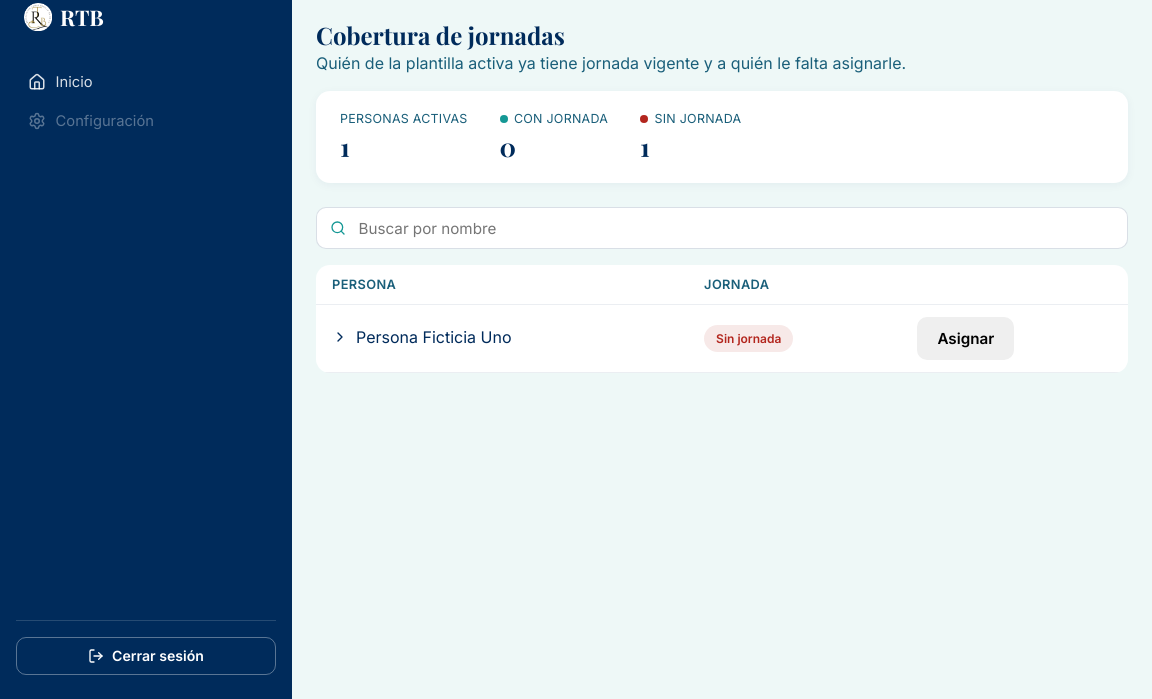
AsignarJornadaPage › se queda en la pestaña tras guardar pero cierra el formulario
Click the button "Asignar": click(966, 338) x1=917 y1=317 x2=1014 y2=360
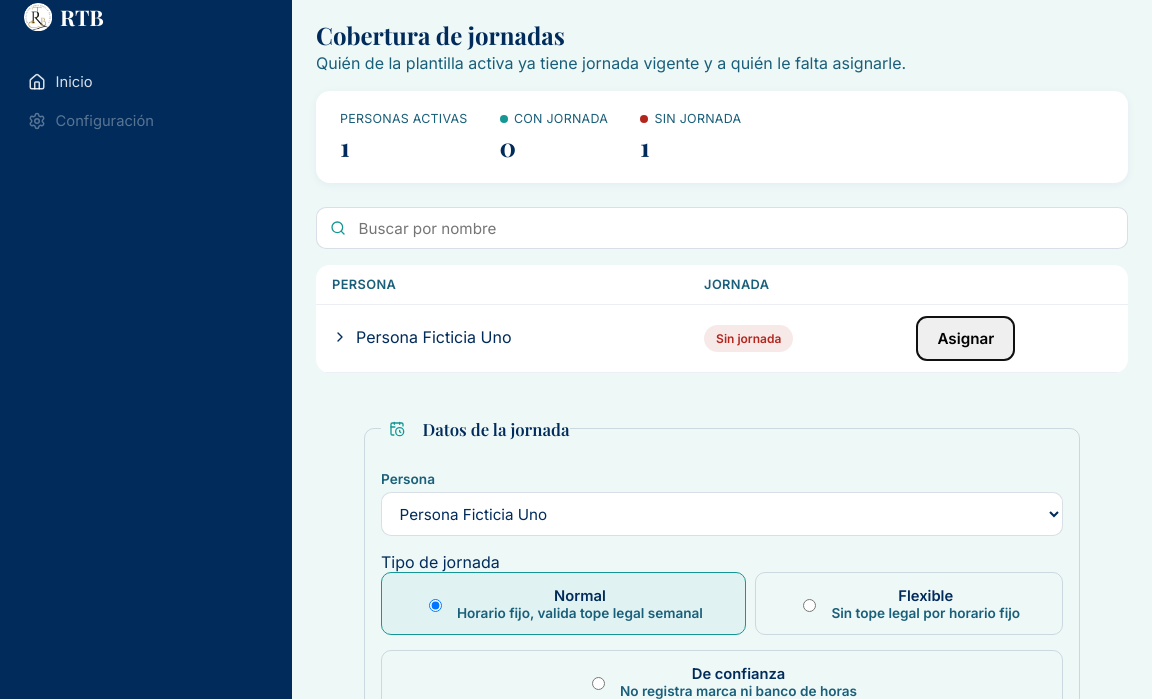
Select "Persona Ficticia Uno" in the dropdown labelled "Persona": (722, 514) x1=381 y1=492 x2=1063 y2=536
(page scrolled)
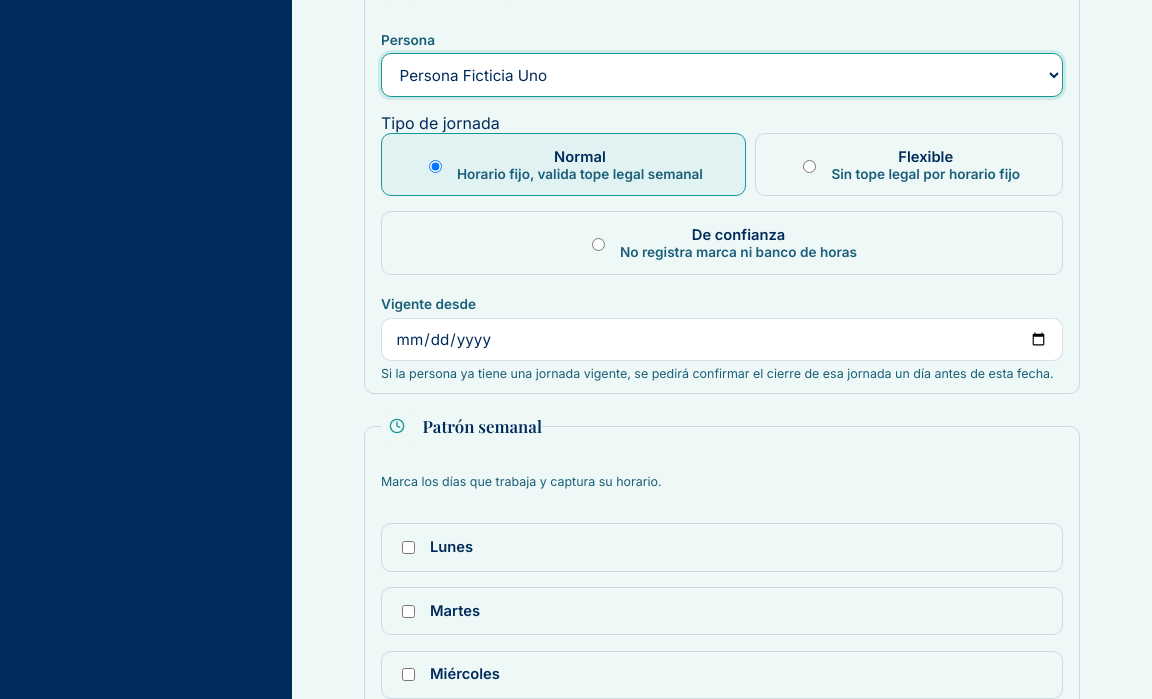
In the date field labelled "Vigente desde": (722, 340) x1=381 y1=318 x2=1063 y2=362, type "2026-01-01"
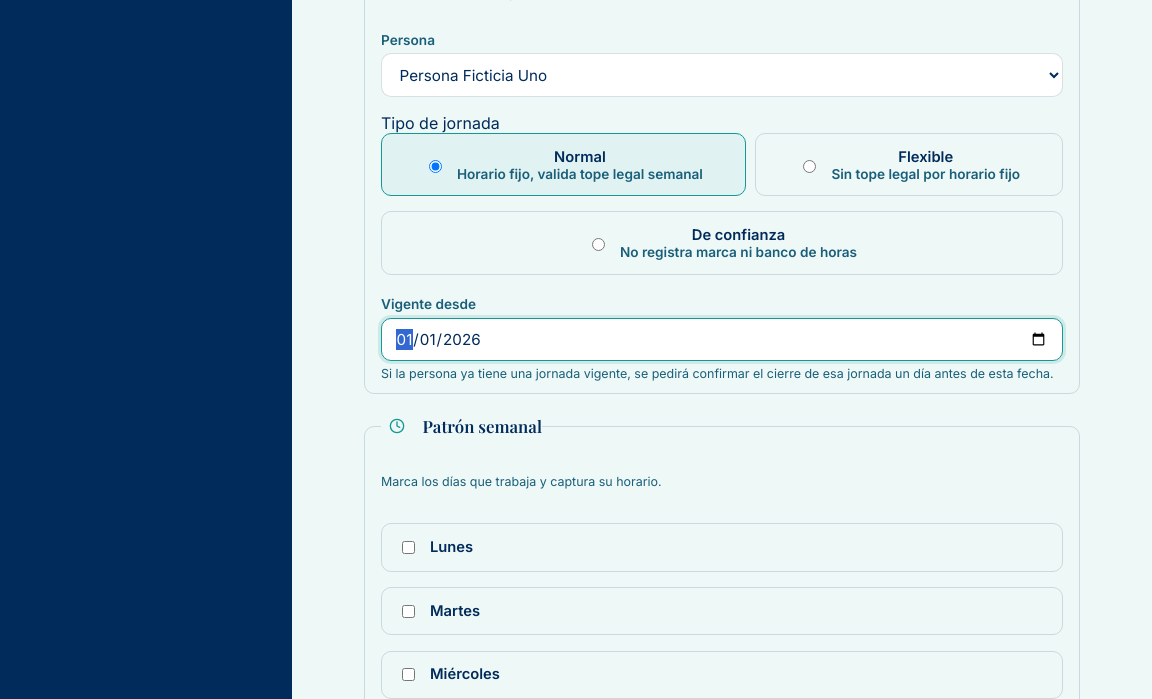
Click the checkbox labelled "Lunes": click(408, 548) x1=402 y1=541 x2=415 y2=554
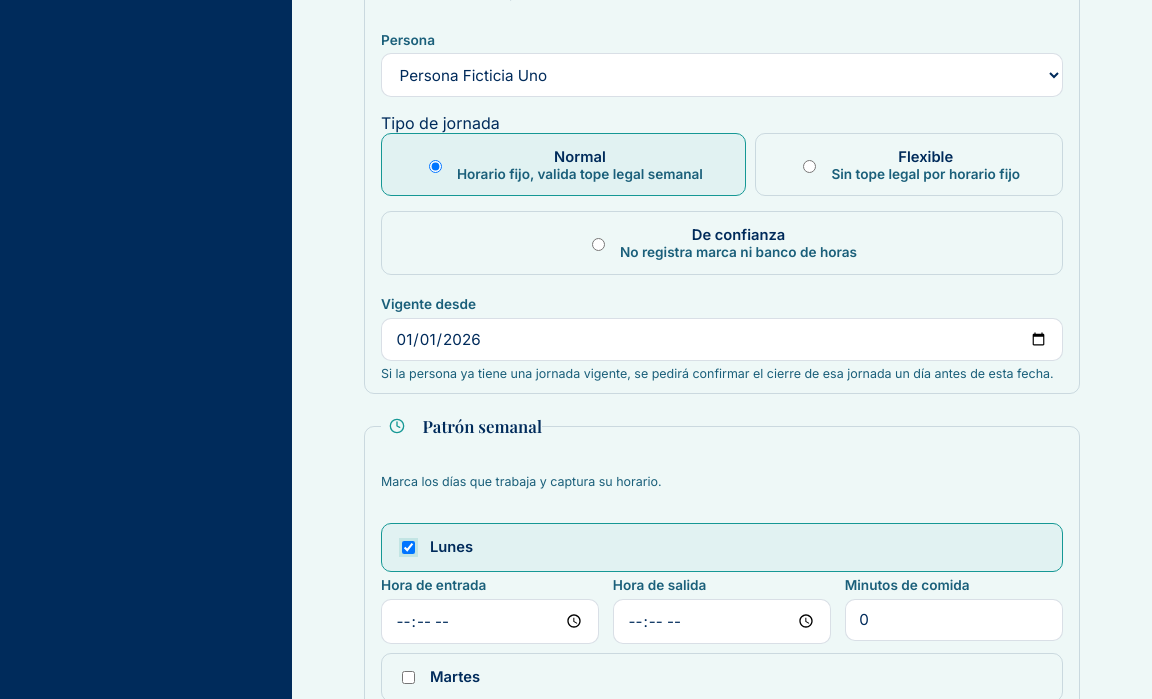
In the time field labelled "Hora de entrada": (490, 621) x1=381 y1=599 x2=599 y2=644, type "09:00"
In the time field labelled "Hora de salida": (722, 621) x1=613 y1=599 x2=831 y2=644, type "18:00"
(page scrolled)
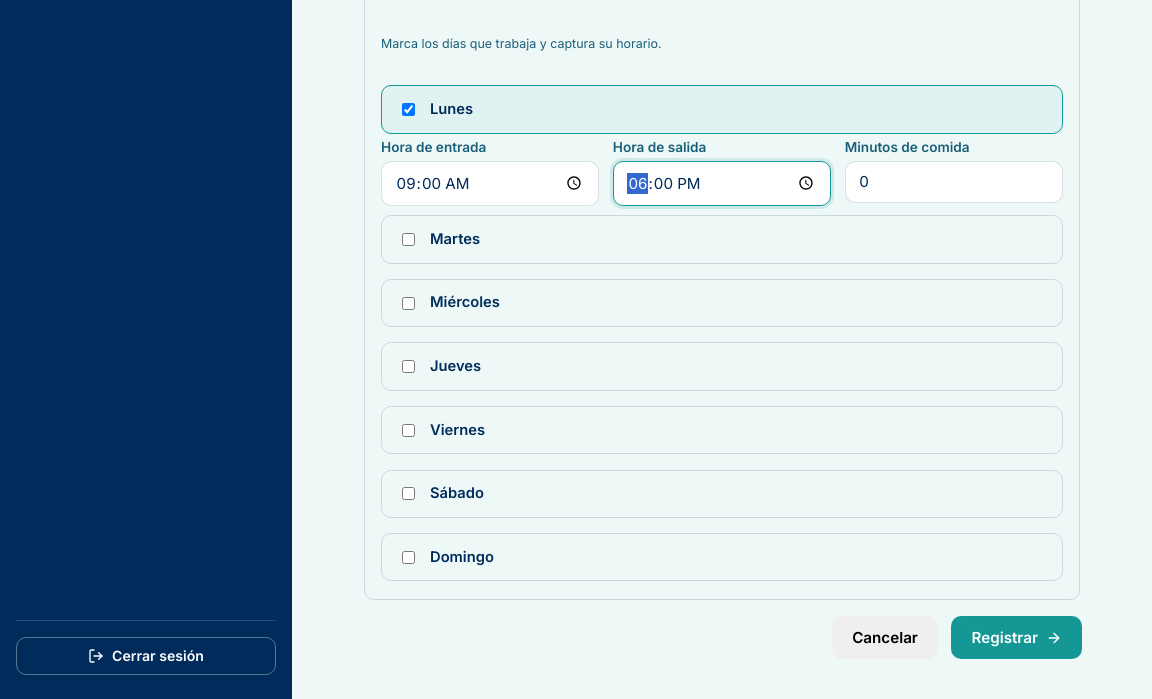
Click the button "Registrar": click(1017, 638) x1=952 y1=616 x2=1082 y2=659
(page scrolled)
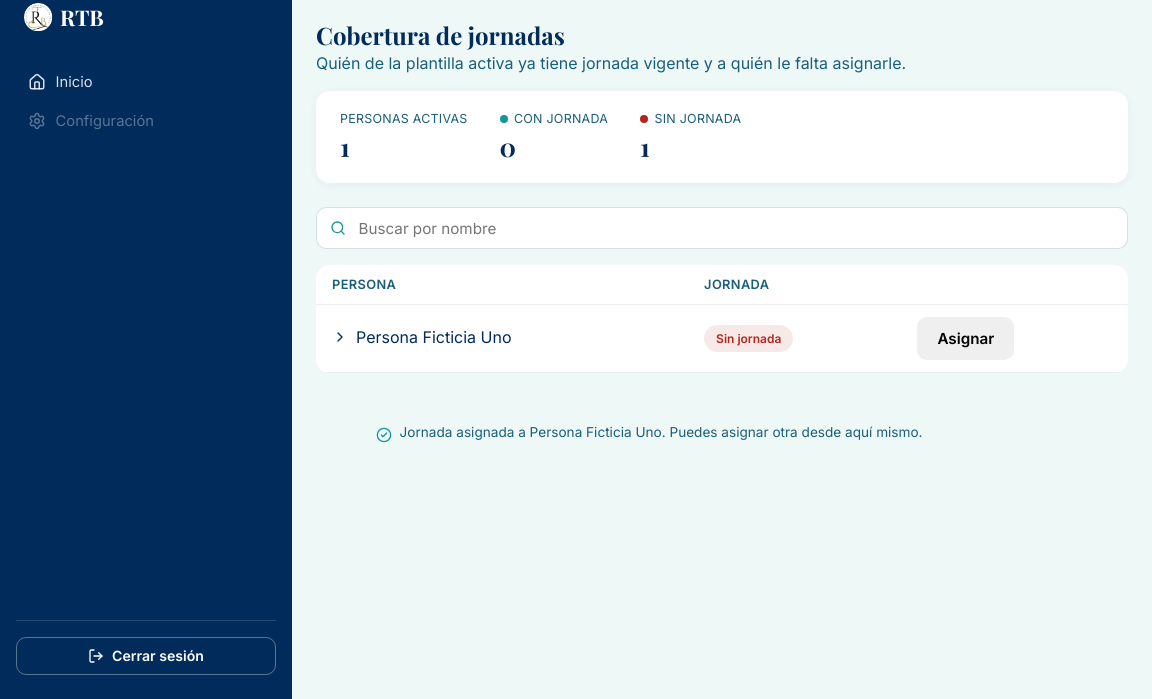
expect the element with class "tarjeta-info" reads "Jornada asignada a Persona Ficticia Uno. Puedes asignar otra desde aquí mismo.": met, box x1=400 y1=424 x2=922 y2=440
